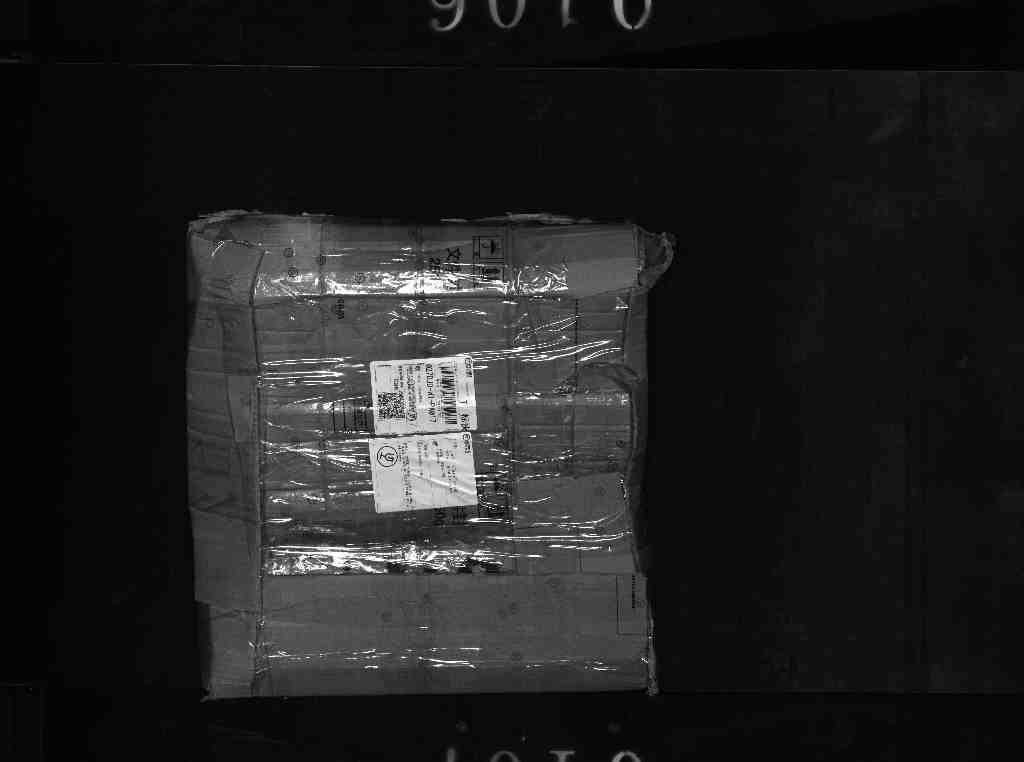box: (156, 203, 667, 707)
